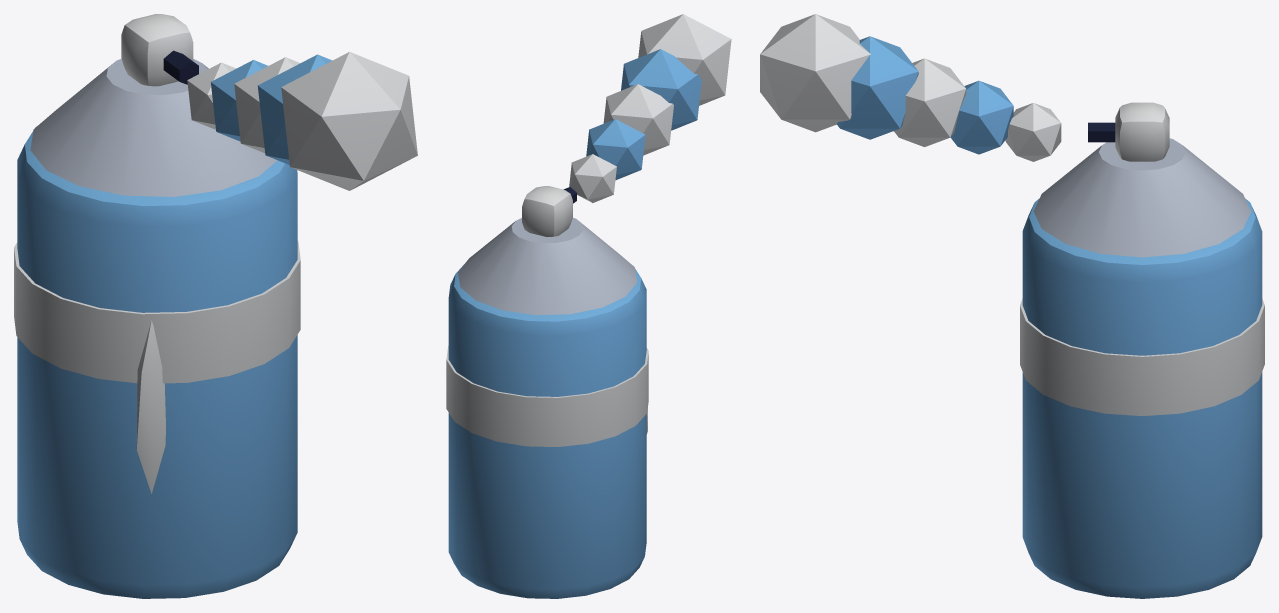
Rendered from lo_wskin_frost.glb.
3 renders of one model, left to right at view 1: azimuth 30°, elevation 25°; view 2: azimuth 150°, elevation 25°; view 3: azimuth 270°, elevation 25°, orthographic. The views are drawn at different scales.
Visible parts, largest first — view 1: body; view 2: body; view 3: body.
Boxes of the visible parts, x1=… form: body: x1=14, y1=14, x2=417, y2=598; body: x1=446, y1=14, x2=731, y2=598; body: x1=760, y1=14, x2=1264, y2=598.
Bounding box in the file's own units: 0.45 × 1.1 × 0.9271.
